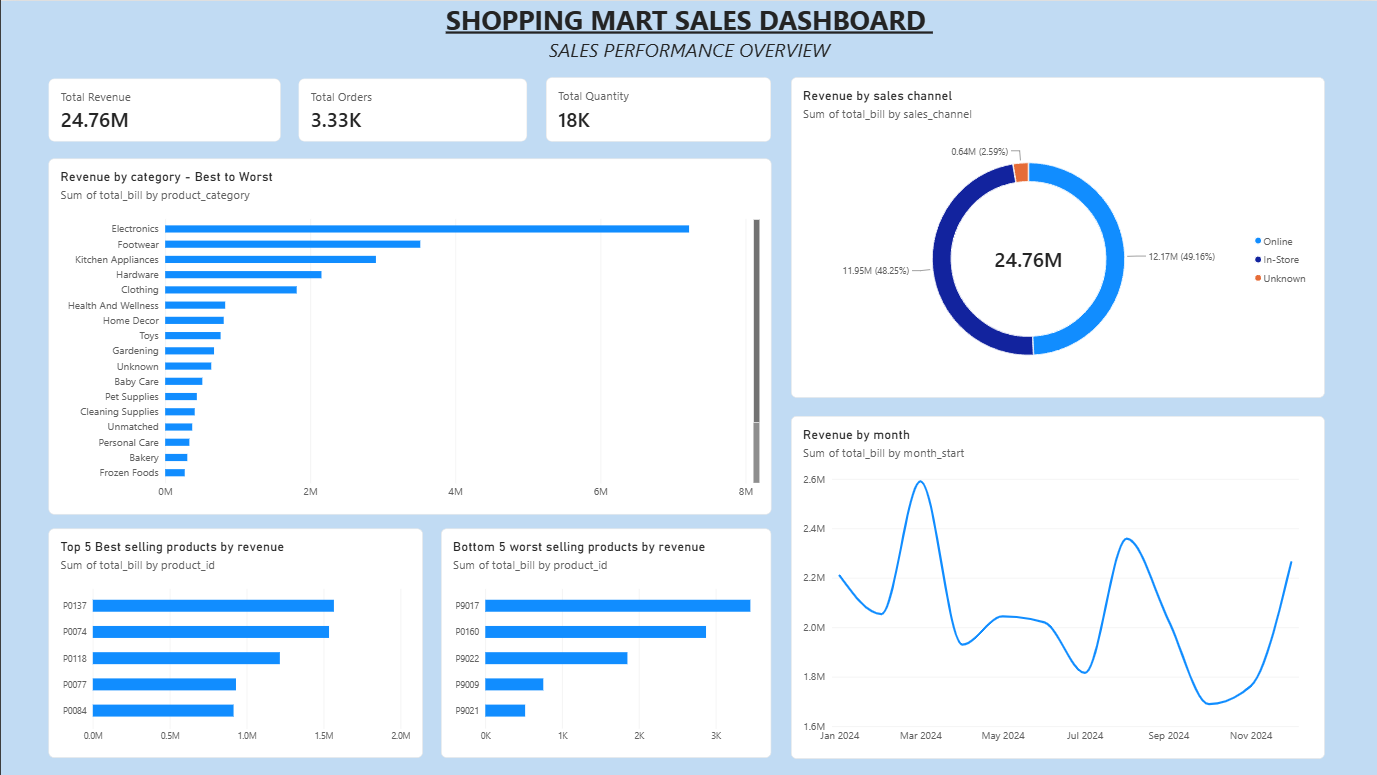

The dashboard page shown, as its layout file describes it:
{"tool":"powerbi","page":{"name":"Page 1","canvas":[1920,1080],"ordinal":0},"visuals":[{"type":"cardVisual","fields":{"Data":["Sales_Data.Total Revenue"]},"box":[66.4,108.9,325,88.5],"z":0},{"type":"clusteredBarChart","title":"Revenue by category - Best to Worst","fields":{"Category":["Sales_Data.product_category"],"Y":["Sum(Sales_Data.total_bill)"]},"box":[66.4,219.5,1008.9,496.8],"z":3},{"type":"lineChart","title":"Revenue by month","fields":{"Category":["Sales_Data.month_start"],"Y":["Sum(Sales_Data.total_bill)"]},"box":[1102.5,578.5,745.2,478.1],"z":4},{"type":"donutChart","title":"Revenue by sales channel","fields":{"Category":["Sales_Data.sales_channel"],"Y":["Sum(Sales_Data.total_bill)"]},"box":[1102.5,107.2,745.2,447.5],"z":5},{"type":"clusteredBarChart","title":"Top 5 Best selling products by revenue","fields":{"Category":["Sales_Data.product_id"],"Y":["Sum(Sales_Data.total_bill)"]},"box":[66.4,736.7,522.3,319.9],"z":6},{"type":"clusteredBarChart","title":"Bottom 5 worst selling products by revenue","fields":{"Category":["Sales_Data.product_id"],"Y":["Sum(Sales_Data.total_bill)"]},"box":[614.2,736.7,461.1,319.9],"z":7},{"type":"cardVisual","fields":{"Data":["Sales_Data.Total Quantity"]},"box":[760.5,107.2,314.7,90.2],"z":8},{"type":"cardVisual","fields":{"Data":["Date_Table.Total Orders"]},"box":[415.1,108.9,319.9,88.5],"z":9},{"type":"textbox","box":[0,0,1920.8,86.8],"z":10}]}

Visuals, with their boxes in screenshot pixels (x1, y1, x2, y2), scaled from the page's 1920x1080 canvas onto the 1377x775 screenshot:
cardVisual - Sales_Data.Total Revenue: <region>48, 78, 281, 142</region>
"Revenue by category - Best to Worst" clusteredBarChart: <region>48, 158, 771, 514</region>
"Revenue by month" lineChart: <region>791, 415, 1325, 758</region>
"Revenue by sales channel" donutChart: <region>791, 77, 1325, 398</region>
"Top 5 Best selling products by revenue" clusteredBarChart: <region>48, 529, 422, 758</region>
"Bottom 5 worst selling products by revenue" clusteredBarChart: <region>440, 529, 771, 758</region>
cardVisual - Sales_Data.Total Quantity: <region>545, 77, 771, 142</region>
cardVisual - Date_Table.Total Orders: <region>298, 78, 527, 142</region>
textbox: <region>0, 0, 1376, 62</region>
